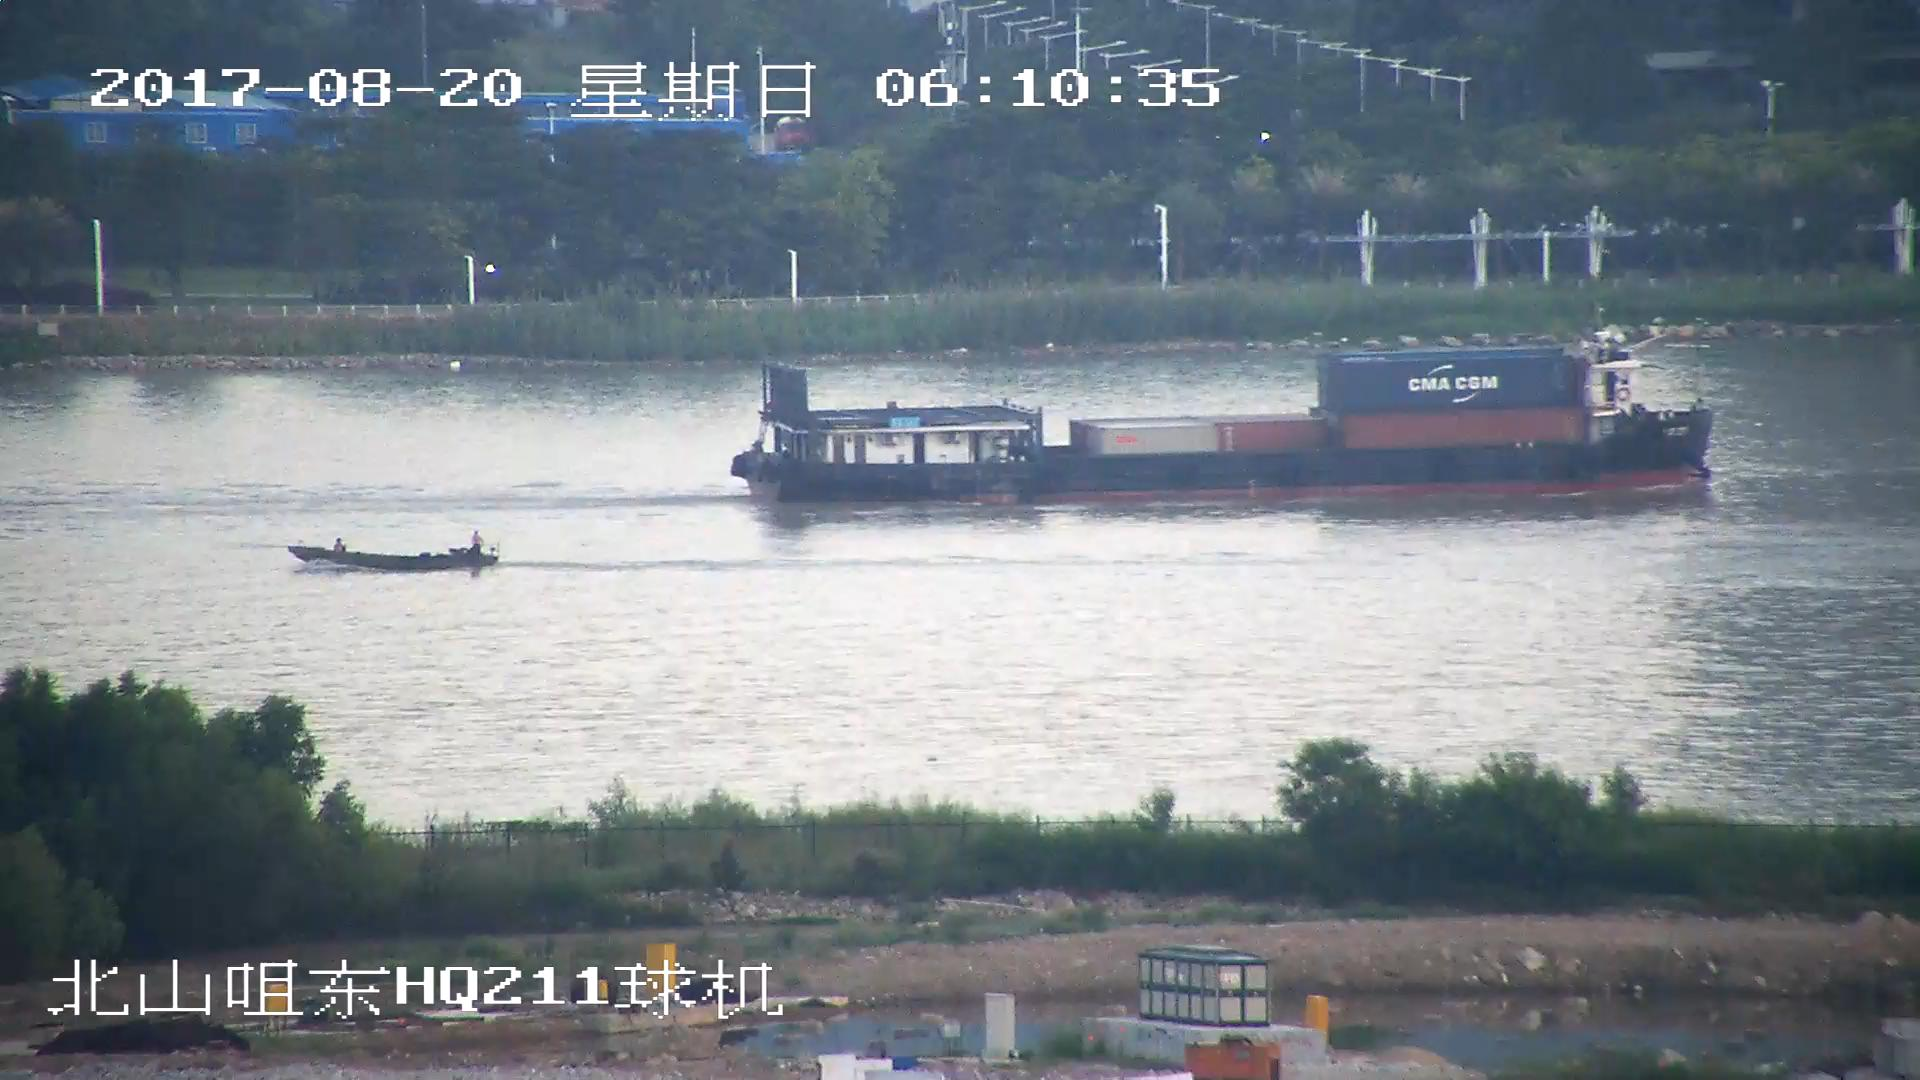container ship: (724, 335, 1712, 501)
fishing boat: (290, 533, 501, 575)
